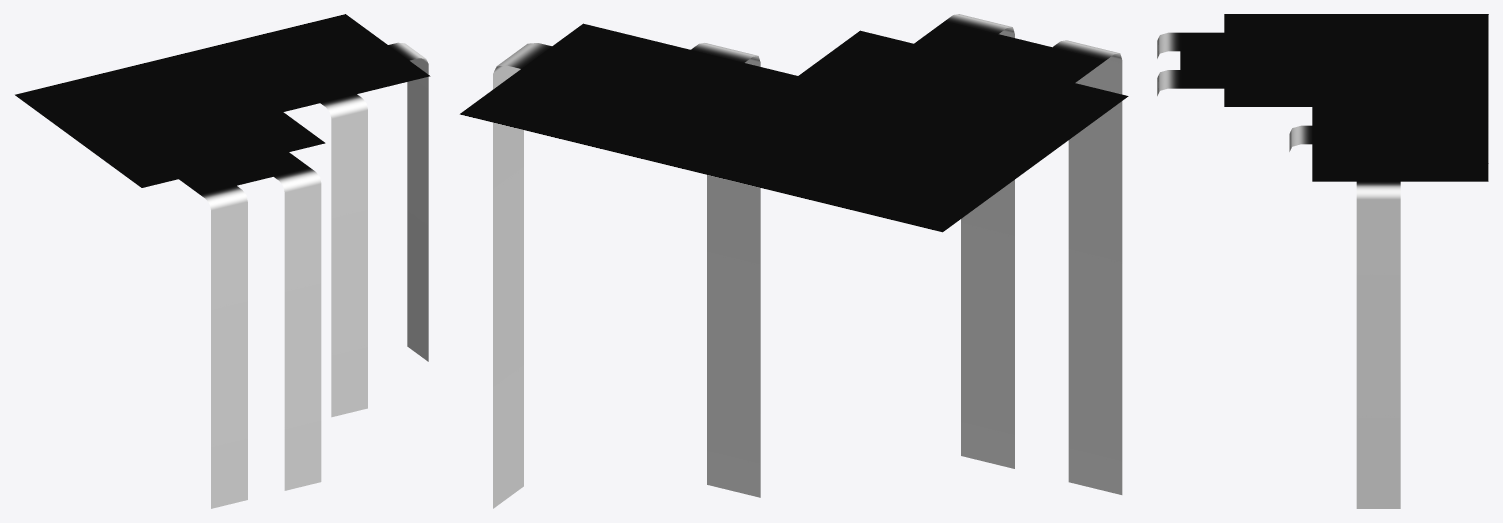
The model's file is sandRoom4Water_MESH.fbx.
3 views of the same model, side by side, from view 1: azimuth 30°, elevation 25°; view 2: azimuth 150°, elevation 25°; view 3: azimuth 270°, elevation 25° (orthographic). The views are drawn at different scales.
Visible parts, largest first — view 1: sandRoom4; view 2: sandRoom4; view 3: sandRoom4.
Part boxes in pixels (x1,y1,x2,y2): sandRoom4: (14, 14, 430, 508); sandRoom4: (459, 14, 1128, 508); sandRoom4: (1157, 14, 1488, 508).
Bounding box in the file's own units: 9.52 × 7.95 × 7.52.
Materials: 1 (1 with a texture image).
